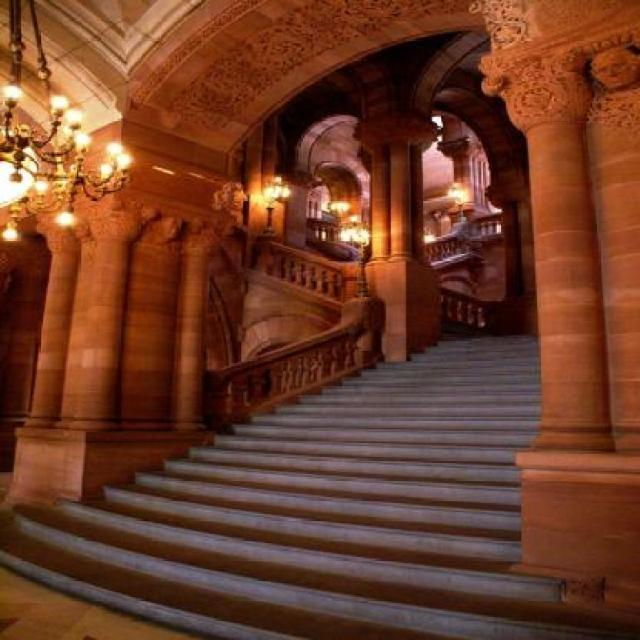stair: (0, 326, 637, 640)
